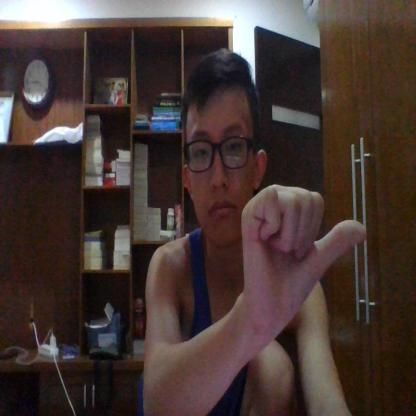left: (240, 178, 368, 324)
